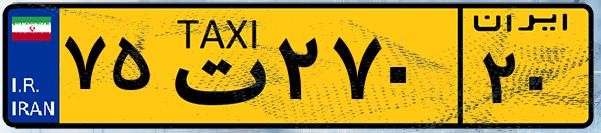0: (385, 28, 445, 110), (525, 38, 570, 115)
2: (270, 28, 330, 110), (475, 38, 525, 113)
5: (110, 28, 158, 98)
7: (330, 28, 385, 110), (57, 26, 110, 100)
ت: (158, 12, 270, 120)
